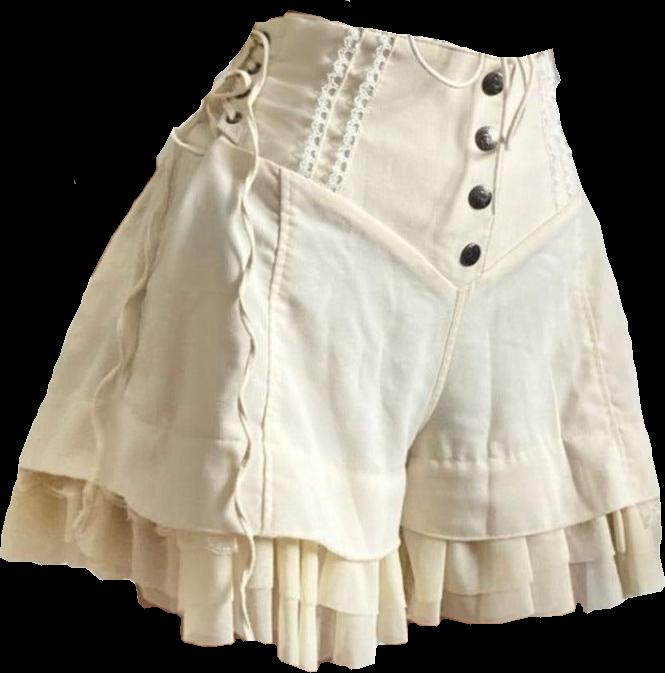Hemline: (0, 551, 409, 672), (16, 459, 405, 560), (403, 545, 661, 605), (401, 492, 661, 545), (406, 580, 664, 629)
Pantleg: (0, 11, 509, 671), (401, 49, 664, 625)
Waistline: (176, 127, 586, 299), (45, 383, 420, 470), (289, 10, 553, 63), (409, 417, 644, 463)
